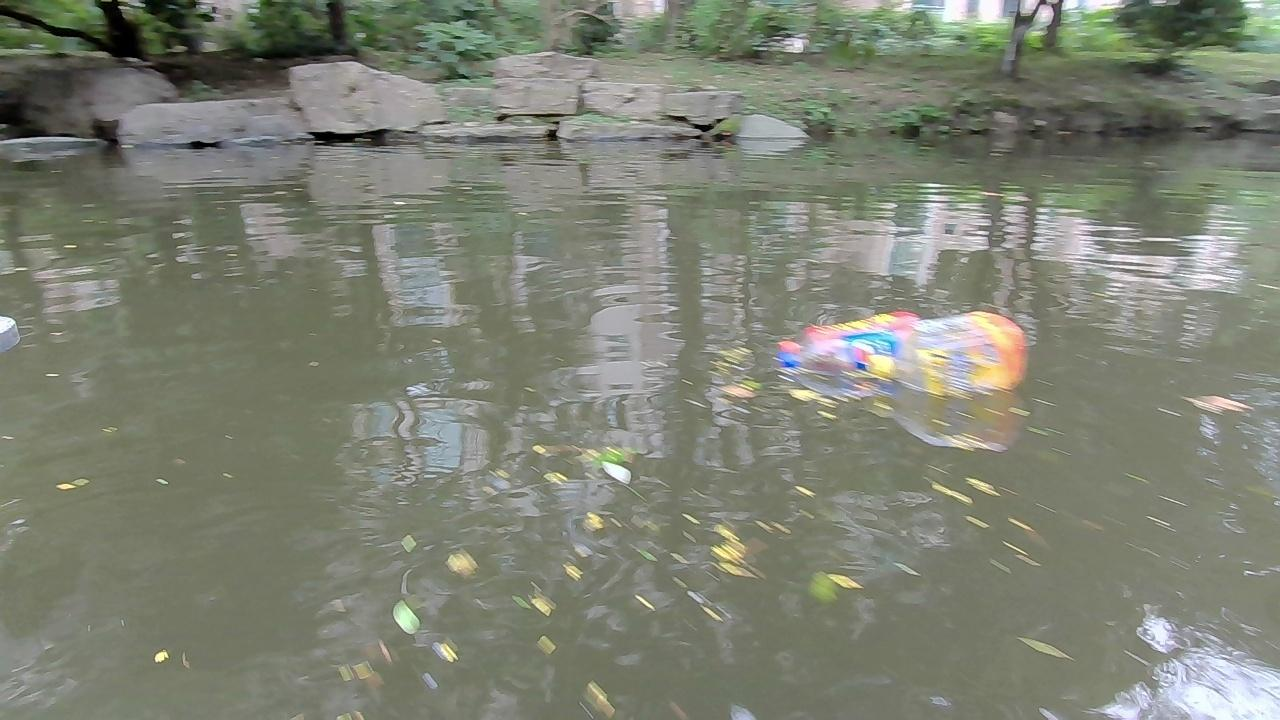bottle: (873, 309, 1025, 395), (779, 303, 922, 351), (778, 331, 907, 375)
